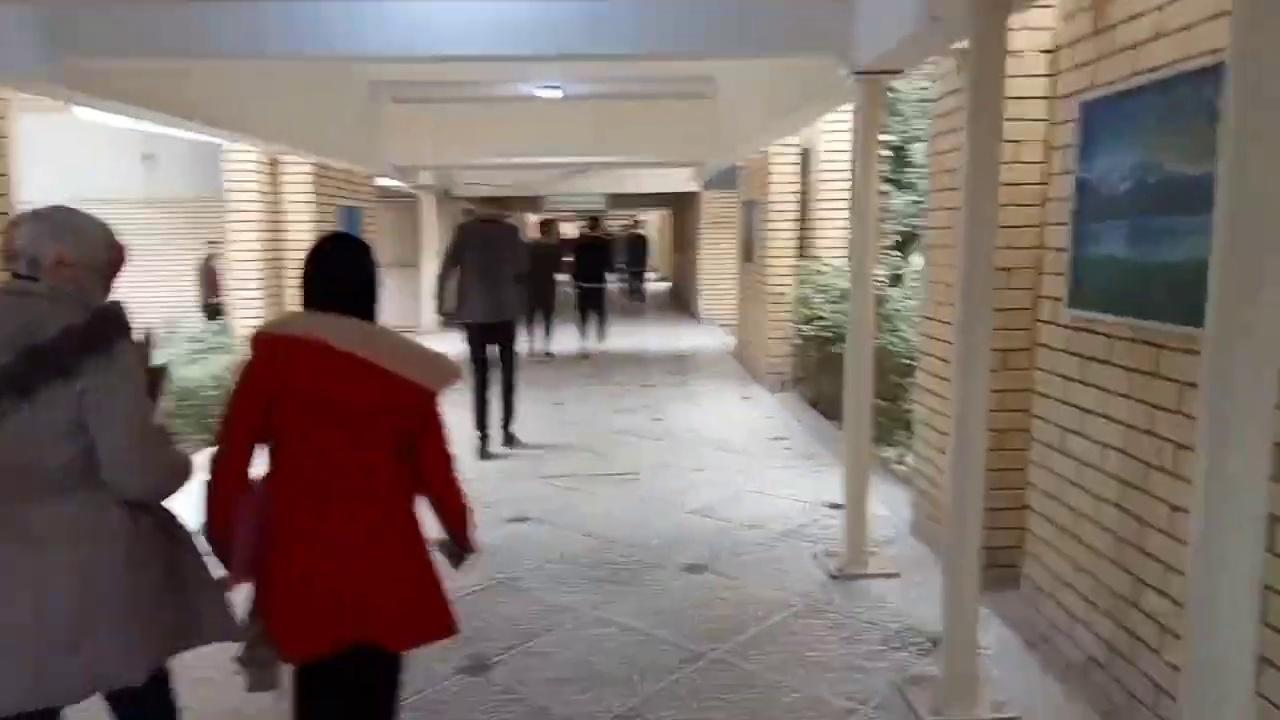person: (205, 230, 479, 719), (0, 204, 243, 719), (435, 196, 531, 459), (570, 216, 614, 346), (523, 218, 562, 358), (623, 218, 647, 303)
tree: (787, 249, 925, 470), (787, 255, 851, 423)
